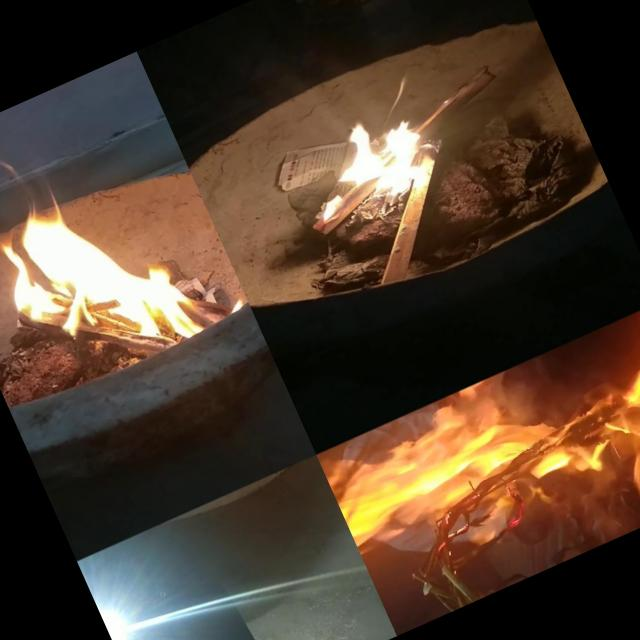fire: (0, 166, 214, 404), (316, 417, 480, 636), (285, 94, 451, 232)
